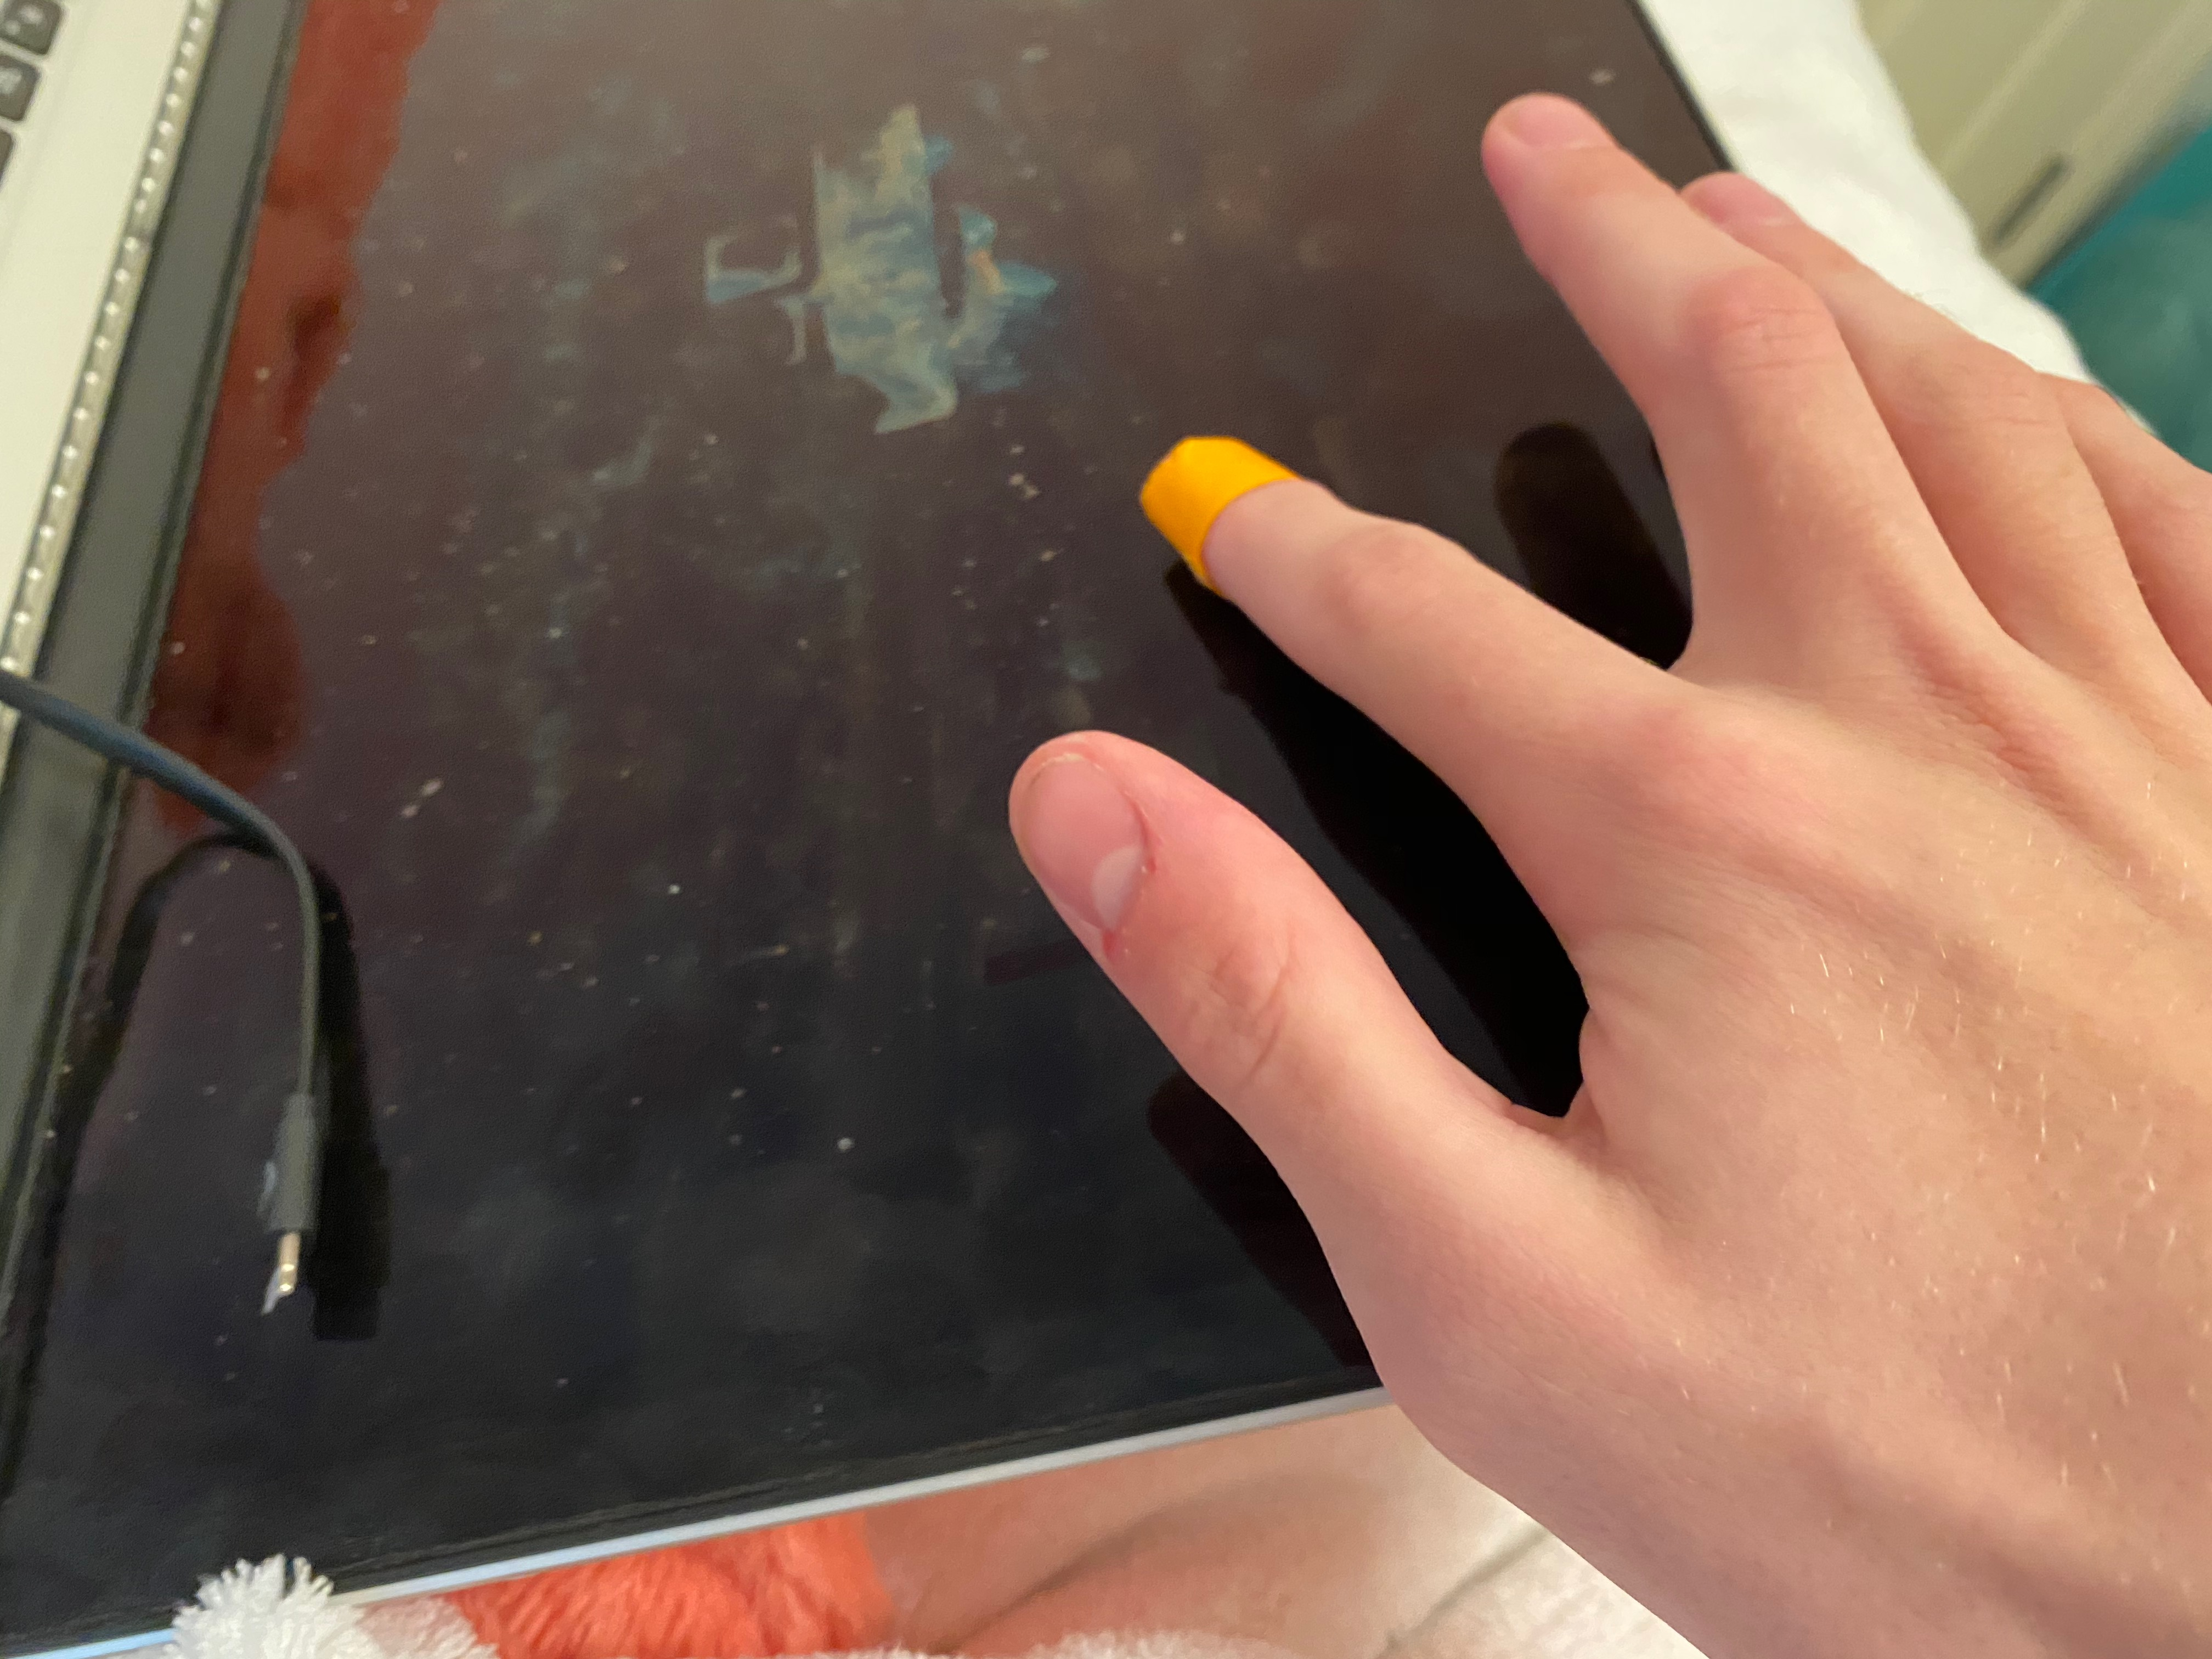fingertip: (1083, 406, 1334, 629)
